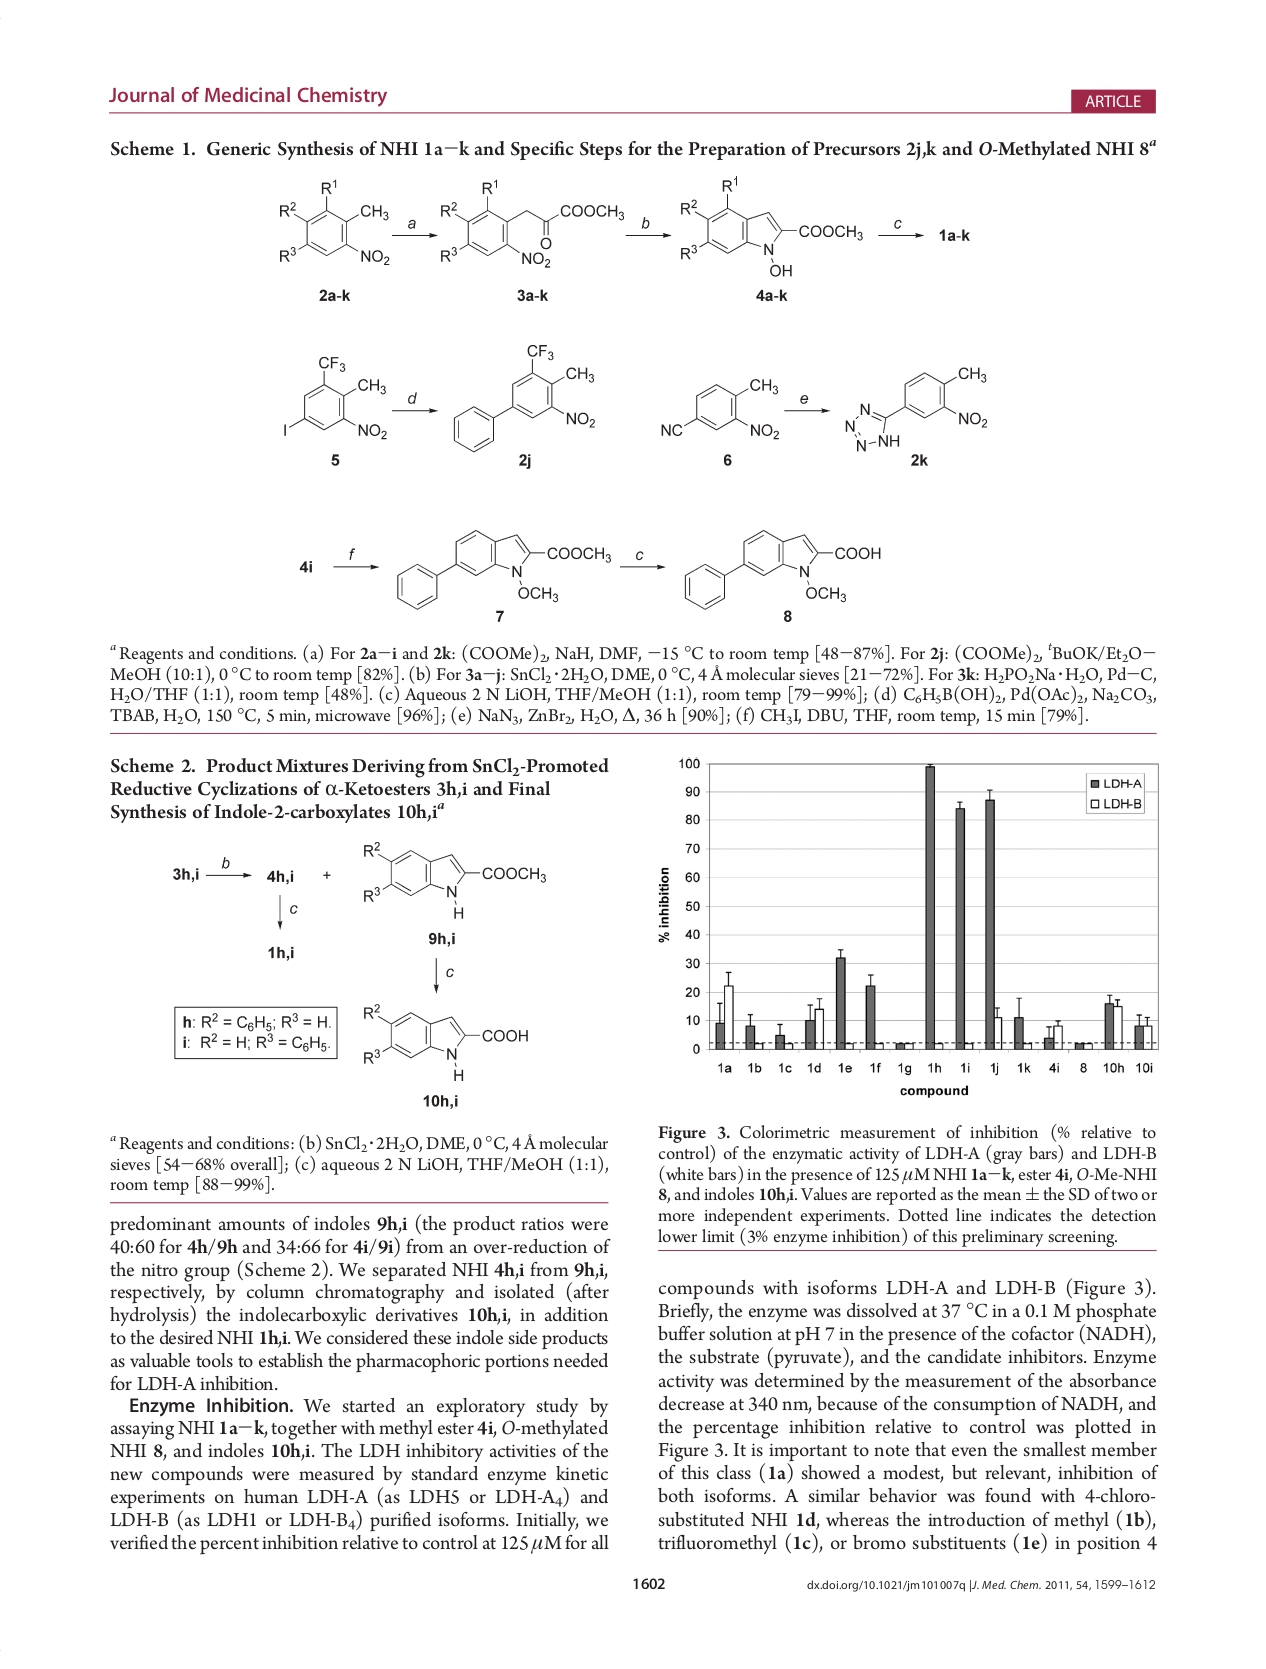exist_molecular: (674, 174, 864, 278), (394, 527, 614, 610), (438, 174, 626, 269), (449, 340, 602, 453), (682, 527, 884, 610), (360, 836, 551, 919), (356, 1001, 532, 1083), (843, 364, 991, 453), (270, 176, 394, 273), (281, 354, 390, 442), (661, 374, 785, 444)
